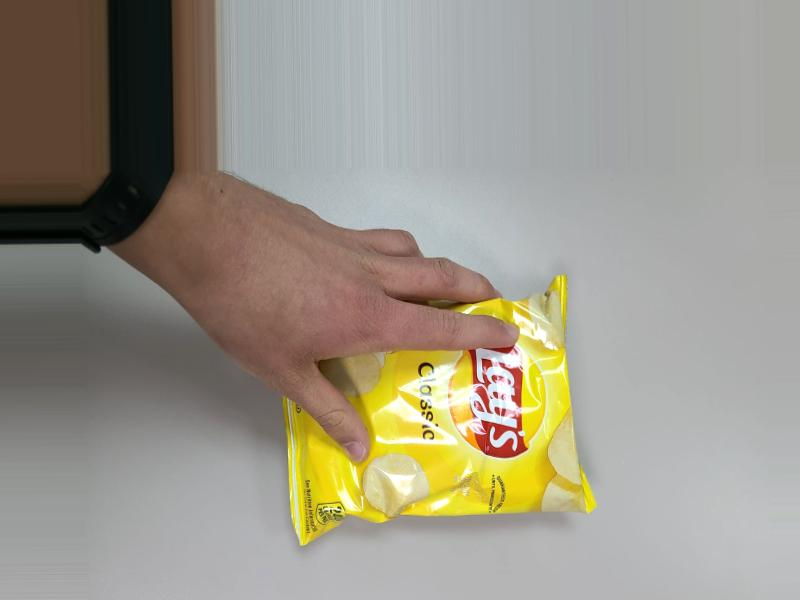lays: (289, 261, 580, 547)
